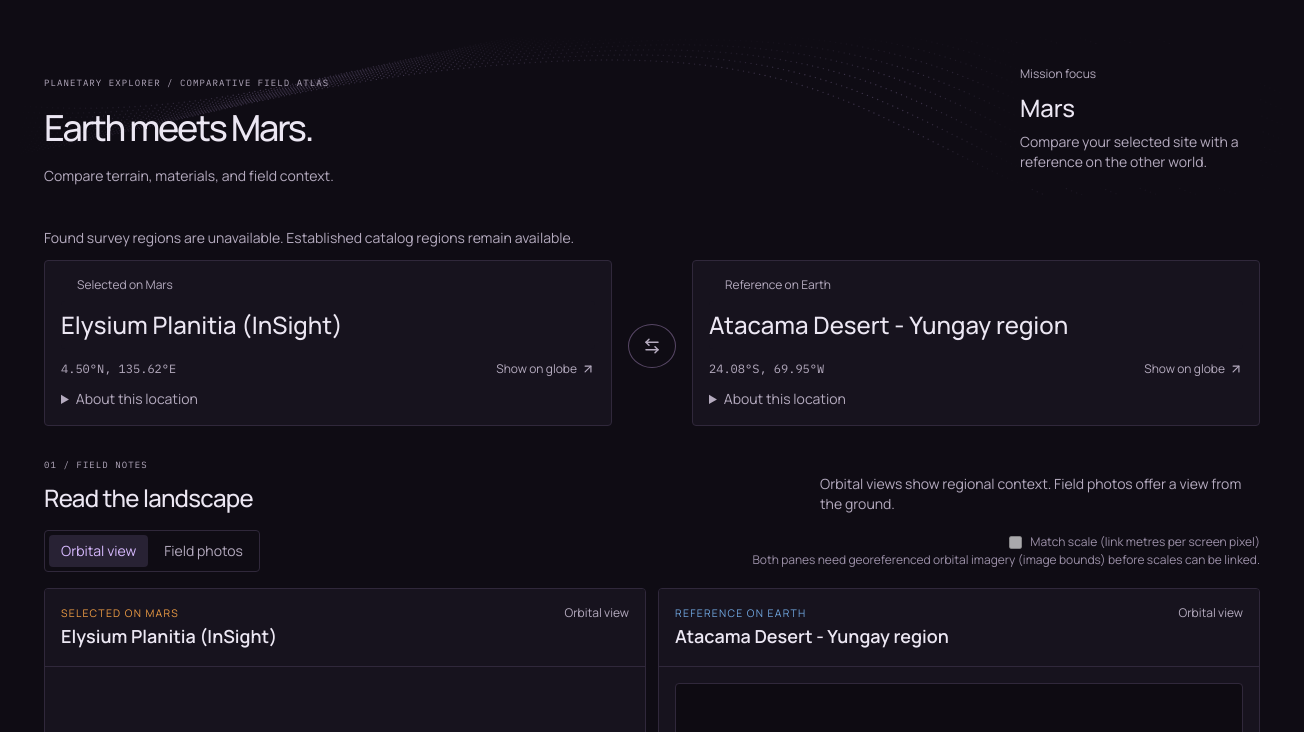
it: side-by-side panes › ignores an imagery response for a location that is no longer selected
Select "Haughton impact structure" in the 2nd dropdown named "Earth location" at (976, 325), box [709,301,1243,349]
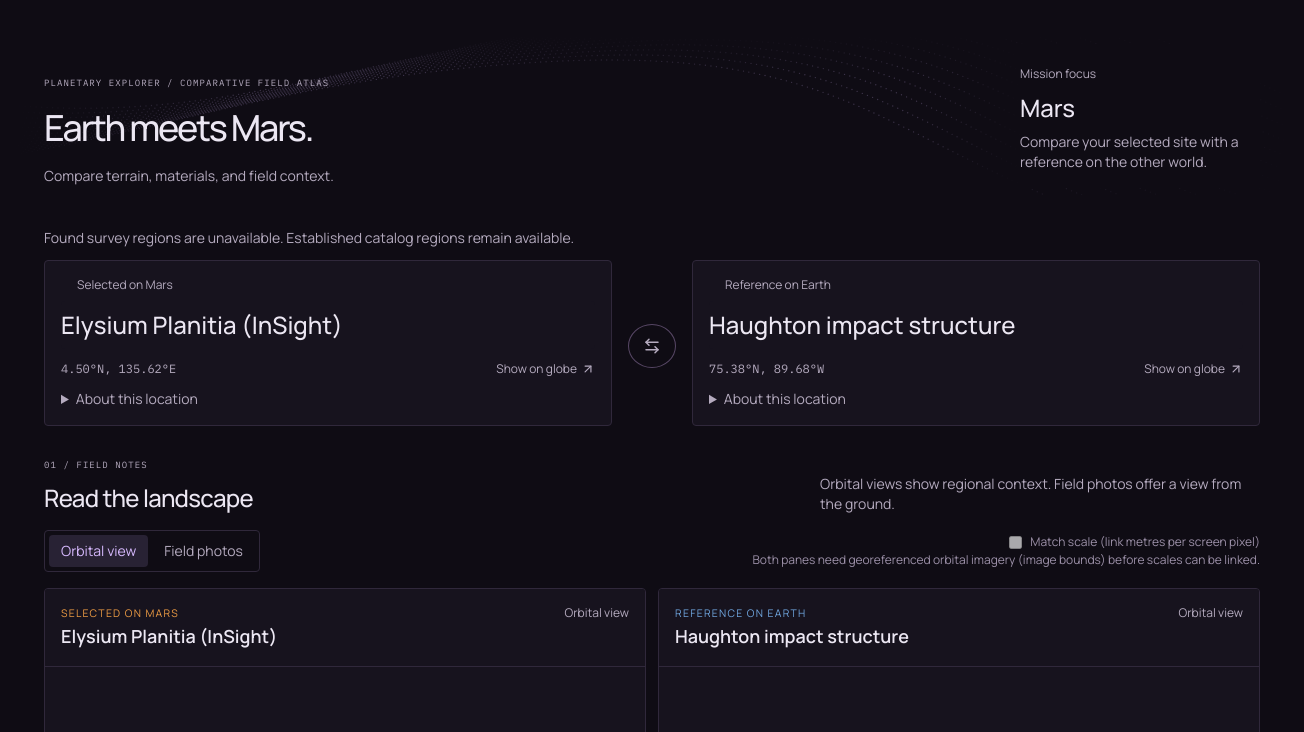
expect the heading "Haughton impact structure" is shown: met, box [675,622,909,650]
